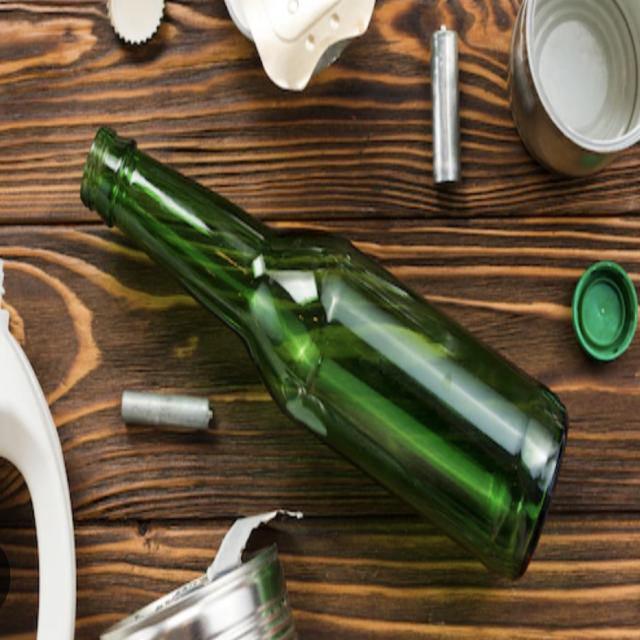recyclable: (69, 111, 582, 584)
